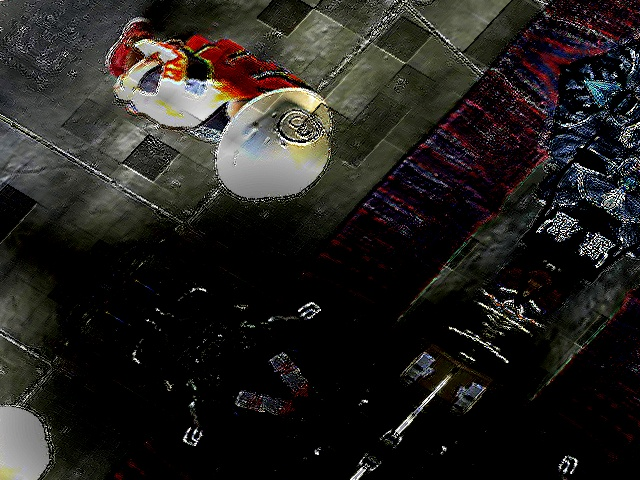three: (269, 105, 327, 151)
